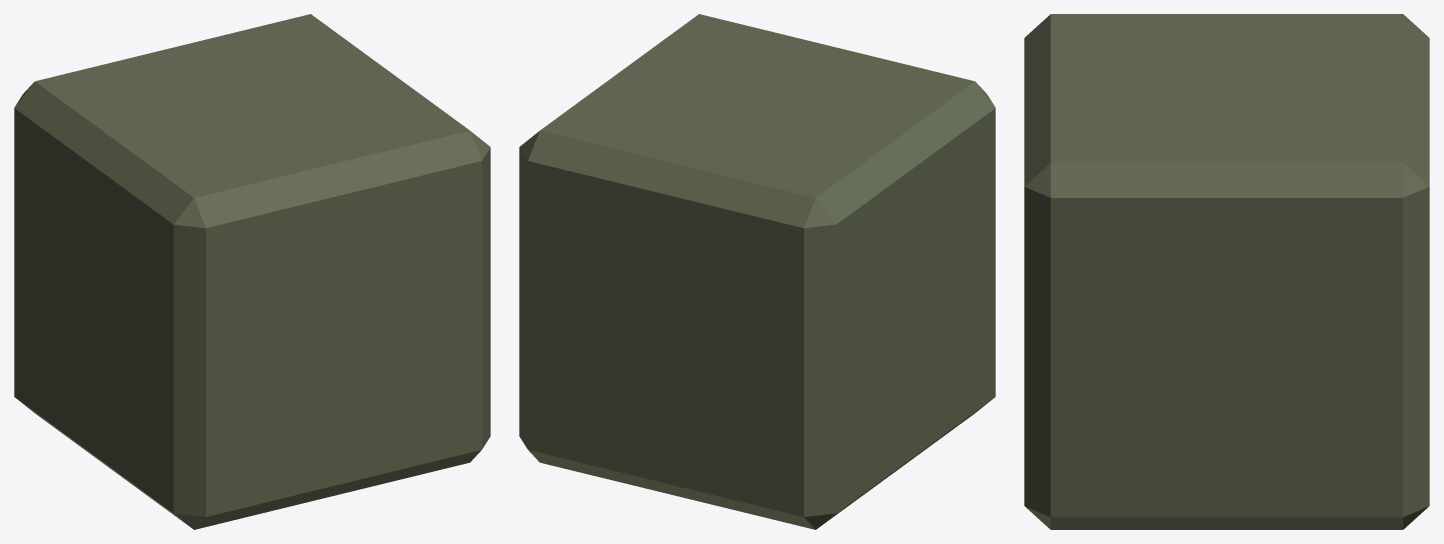
Rendered from scarStructure.obj.
3 views of the same model, side by side, from view 1: azimuth 30°, elevation 25°; view 2: azimuth 150°, elevation 25°; view 3: azimuth 270°, elevation 25° (orthographic). The views are drawn at different scales.
Parts seen in each view (by area): view 1: scarStructure; view 2: scarStructure; view 3: scarStructure.
Part boxes in pixels (bbox=[...]): scarStructure: bbox=[14, 14, 490, 529]; scarStructure: bbox=[519, 14, 995, 529]; scarStructure: bbox=[1024, 14, 1429, 529].
Bounding box in the file's own units: 1 × 1 × 1.
Materials: 1 (1 with a texture image).
